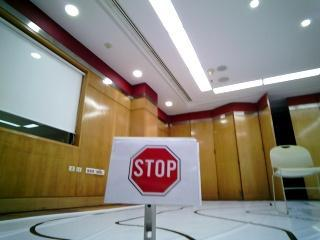stop: (111, 136, 189, 202)
